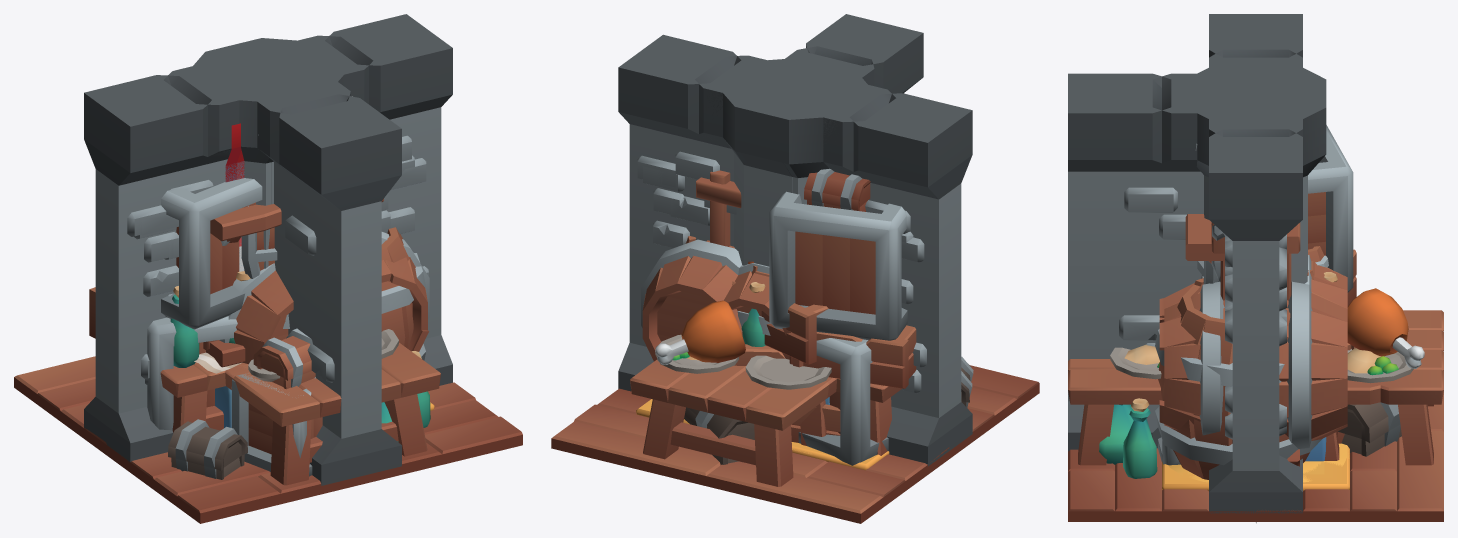
File: tavern-props.glb
3 renders of one model, left to right at view 1: azimuth 30°, elevation 25°; view 2: azimuth 150°, elevation 25°; view 3: azimuth 270°, elevation 25°, orthographic. The views are drawn at different scales.
Visible parts, largest first — view 1: wall_corner, wall, box_stacked, floor_wood_large, wall_doorway, wall_window_open, table_long_decorated_A, keg_decorated, wall_pillar, keg, shelves, pillar (+2 smaller); view 2: wall, box_stacked, table_long_decorated_A, floor_wood_large, wall_doorway, wall_pillar, keg_decorated, wall_window_open, wall_corner, crates_stacked, pillar, keg (+2 smaller); view 3: wall_corner, wall, table_long_decorated_A, box_stacked, floor_wood_large, keg_decorated, wall_pillar, wall_doorway, rug_rectangle_stripes_A, wall_window_open, keg, shelves (+4 smaller).
Boxes of the visible parts, left/top/right/bottom form: wall_corner: left=121, top=55, right=401, bottom=485; wall: left=84, top=14, right=452, bottom=462; box_stacked: left=147, top=178, right=430, bottom=479; floor_wood_large: left=14, top=356, right=522, bottom=523; wall_doorway: left=96, top=107, right=448, bottom=442; wall_window_open: left=86, top=14, right=452, bottom=447; table_long_decorated_A: left=225, top=329, right=440, bottom=485; keg_decorated: left=89, top=232, right=429, bottom=432; wall_pillar: left=120, top=36, right=448, bottom=457; keg: left=219, top=263, right=293, bottom=364; shelves: left=206, top=199, right=383, bottom=367; pillar: left=209, top=43, right=316, bottom=204; wall: left=618, top=34, right=972, bottom=466; box_stacked: left=684, top=168, right=973, bottom=465; table_long_decorated_A: left=630, top=282, right=831, bottom=486; floor_wood_large: left=551, top=365, right=1039, bottom=523; wall_doorway: left=622, top=114, right=971, bottom=443; wall_pillar: left=621, top=55, right=936, bottom=463; keg_decorated: left=641, top=239, right=916, bottom=455; wall_window_open: left=629, top=46, right=972, bottom=461; wall_corner: left=757, top=14, right=938, bottom=403; crates_stacked: left=732, top=261, right=840, bottom=442; pillar: left=741, top=59, right=843, bottom=266; keg: left=724, top=263, right=803, bottom=367; wall_corner: left=1068, top=54, right=1302, bottom=451; wall: left=1209, top=14, right=1302, bottom=513; table_long_decorated_A: left=1068, top=272, right=1443, bottom=465; box_stacked: left=1099, top=125, right=1401, bottom=479; floor_wood_large: left=1068, top=371, right=1443, bottom=521; keg_decorated: left=1159, top=281, right=1347, bottom=466; wall_pillar: left=1190, top=57, right=1326, bottom=491; wall_doorway: left=1209, top=241, right=1302, bottom=491; rug_rectangle_stripes_A: left=1162, top=447, right=1349, bottom=490; wall_window_open: left=1211, top=222, right=1300, bottom=346; keg: left=1159, top=255, right=1347, bottom=317; shelves: left=1185, top=214, right=1224, bottom=263.
Size of the model in its own units: 4 by 4.82 by 4.
Materials: 2 (2 with a texture image).
